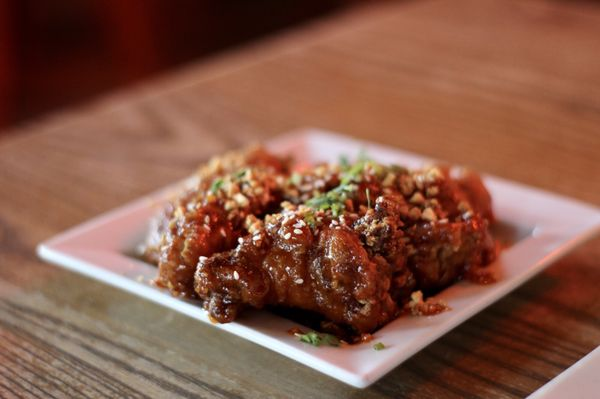curry: (0, 3, 599, 395)
